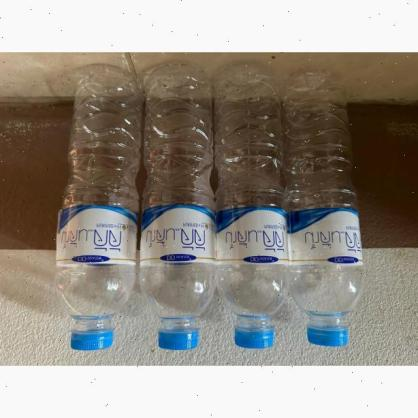bottle: (57, 66, 138, 350), (137, 63, 216, 351), (288, 67, 364, 350), (217, 62, 288, 351)
cap: (304, 323, 350, 347), (70, 328, 114, 350), (234, 326, 275, 348), (158, 330, 199, 350)
label: (58, 205, 136, 268), (139, 206, 214, 268), (292, 207, 362, 267), (218, 207, 286, 264)
